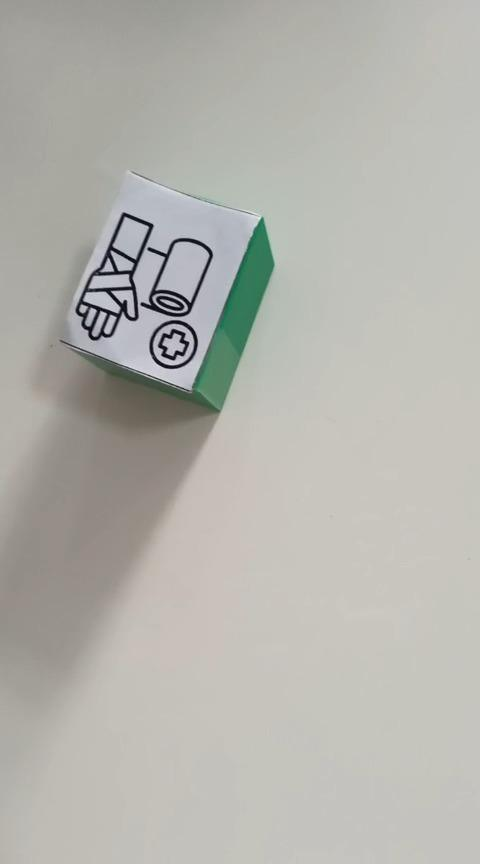Bandages: (58, 168, 275, 412)
